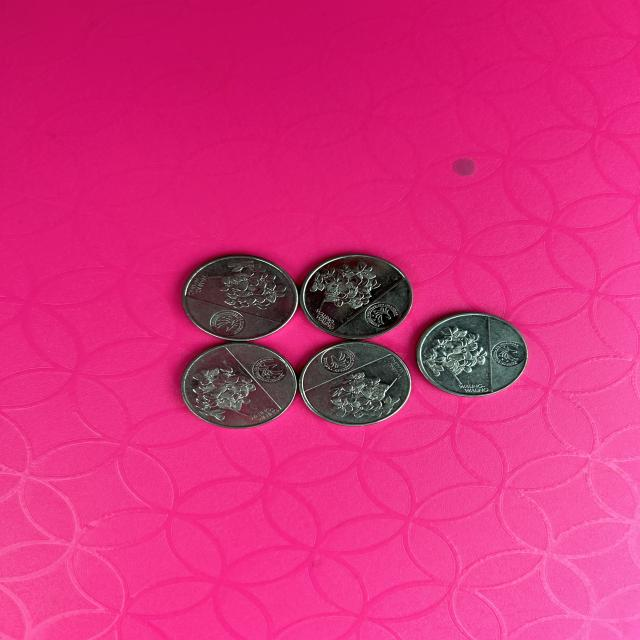1_New_Back: (188, 360, 254, 417), (328, 370, 398, 422), (422, 324, 482, 380), (311, 262, 381, 308), (215, 259, 281, 307)
